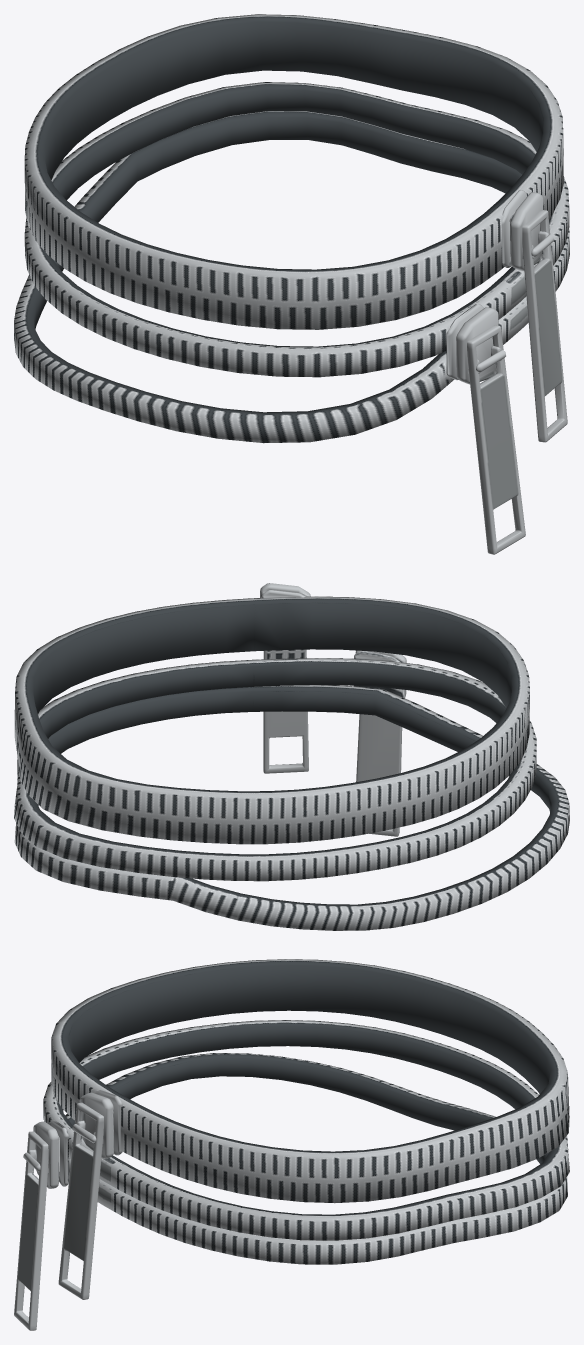
3 renders of one model, top to bottom at view 1: azimuth 30°, elevation 25°; view 2: azimuth 150°, elevation 25°; view 3: azimuth 270°, elevation 25°, orthographic. The views are drawn at different scales.
Parts seen in each view (by area): view 1: hash_0D458165.model; view 2: hash_0D458165.model; view 3: hash_0D458165.model.
Boxes of the visible parts, box(x1,y1,x2,y2) form: hash_0D458165.model: box(14, 14, 569, 554); hash_0D458165.model: box(14, 583, 569, 930); hash_0D458165.model: box(14, 959, 569, 1330).
Size of the model in its own units: 0.0767 by 0.0415 by 0.0815.
